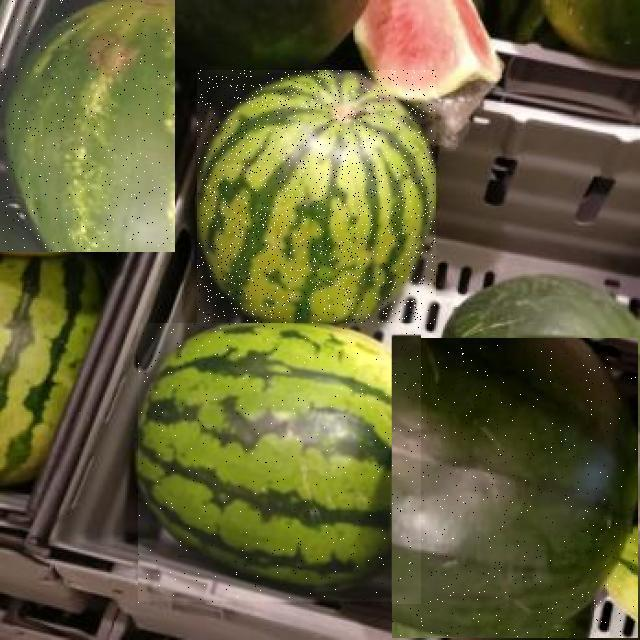Watermelon: (138, 324, 421, 604), (392, 339, 638, 639), (197, 70, 436, 324), (0, 0, 175, 252)
